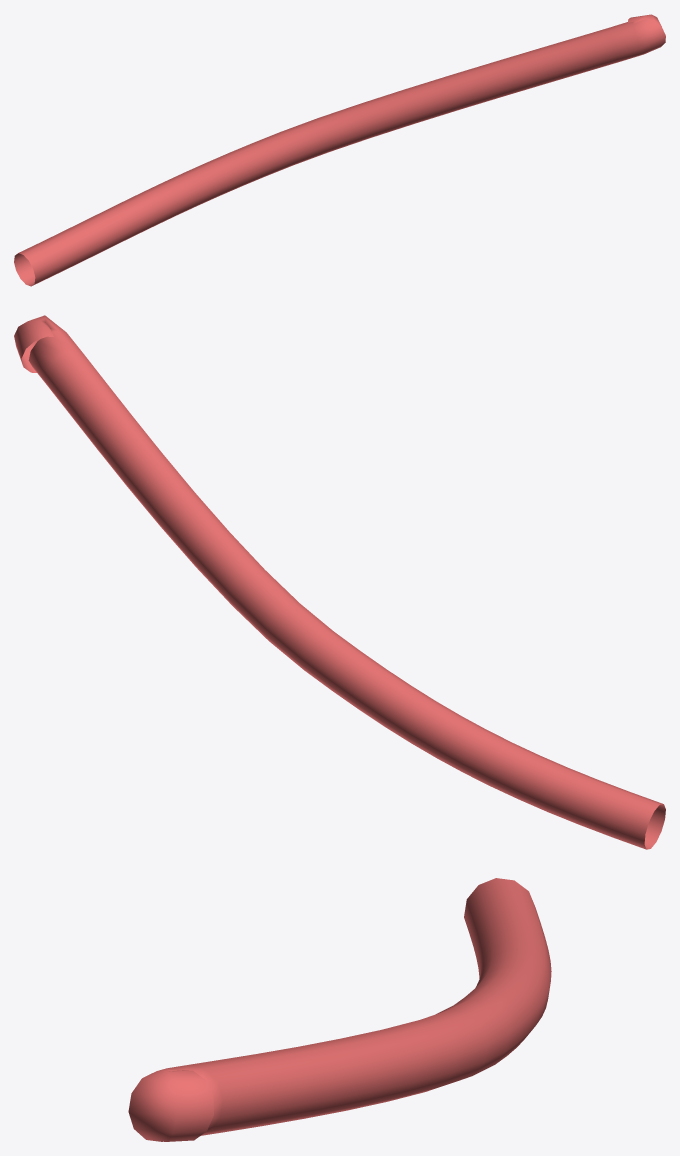
Rendered from Dorsal_carpal_anastomosis.l_BezierCurve.373.glb.
3 renders of one model, top to bottom at view 1: azimuth 30°, elevation 25°; view 2: azimuth 150°, elevation 25°; view 3: azimuth 270°, elevation 25°, orthographic. The views are drawn at different scales.
Visible parts, largest first — view 1: Dorsal_carpal_anastomosis.l_BezierCurve.373; view 2: Dorsal_carpal_anastomosis.l_BezierCurve.373; view 3: Dorsal_carpal_anastomosis.l_BezierCurve.373.
Boxes of the visible parts, box(x1,y1,x2,y2) form: Dorsal_carpal_anastomosis.l_BezierCurve.373: box(14, 14, 665, 286); Dorsal_carpal_anastomosis.l_BezierCurve.373: box(14, 315, 665, 849); Dorsal_carpal_anastomosis.l_BezierCurve.373: box(128, 878, 551, 1141).
Bounding box in the file's own units: 0.0249 × 0.00848 × 0.00817.
